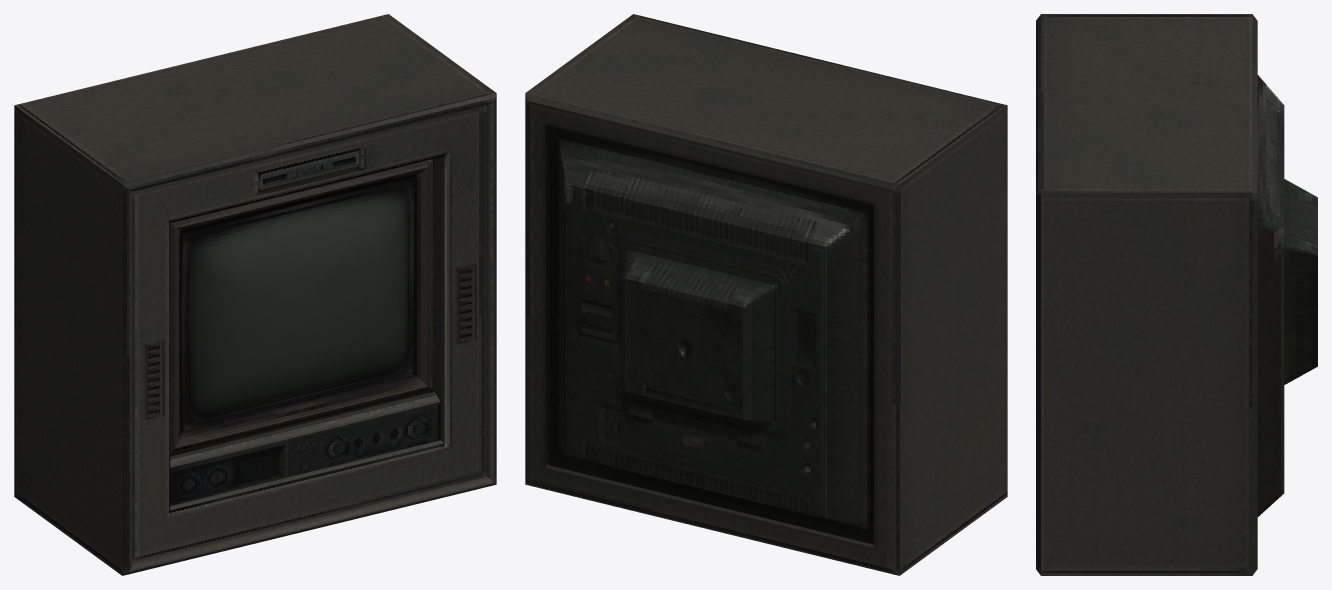
3 renders of one model, left to right at view 1: azimuth 30°, elevation 25°; view 2: azimuth 150°, elevation 25°; view 3: azimuth 270°, elevation 25°, orthographic. The views are drawn at different scales.
Visible parts, largest first — view 1: tv_mp_1; view 2: tv_mp_1; view 3: tv_mp_1.
Part boxes in pixels (<box>): tv_mp_1: <box>14,14,496,575</box>; tv_mp_1: <box>525,14,1007,575</box>; tv_mp_1: <box>1036,14,1317,575</box>.
Size of the model in its own units: 0.63 by 0.63 by 0.42.
2 materials, 2 textured.
